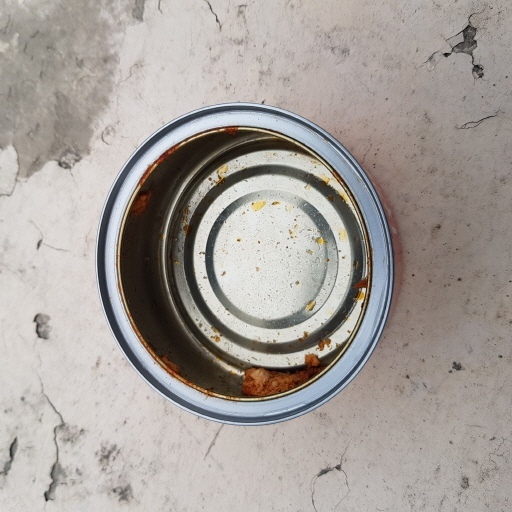Metal_1: (89, 105, 398, 424)
